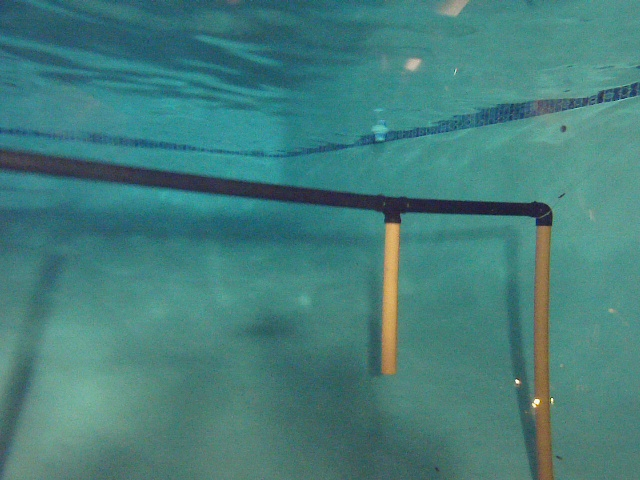Gate: (532, 222, 553, 480), (378, 221, 403, 377)
